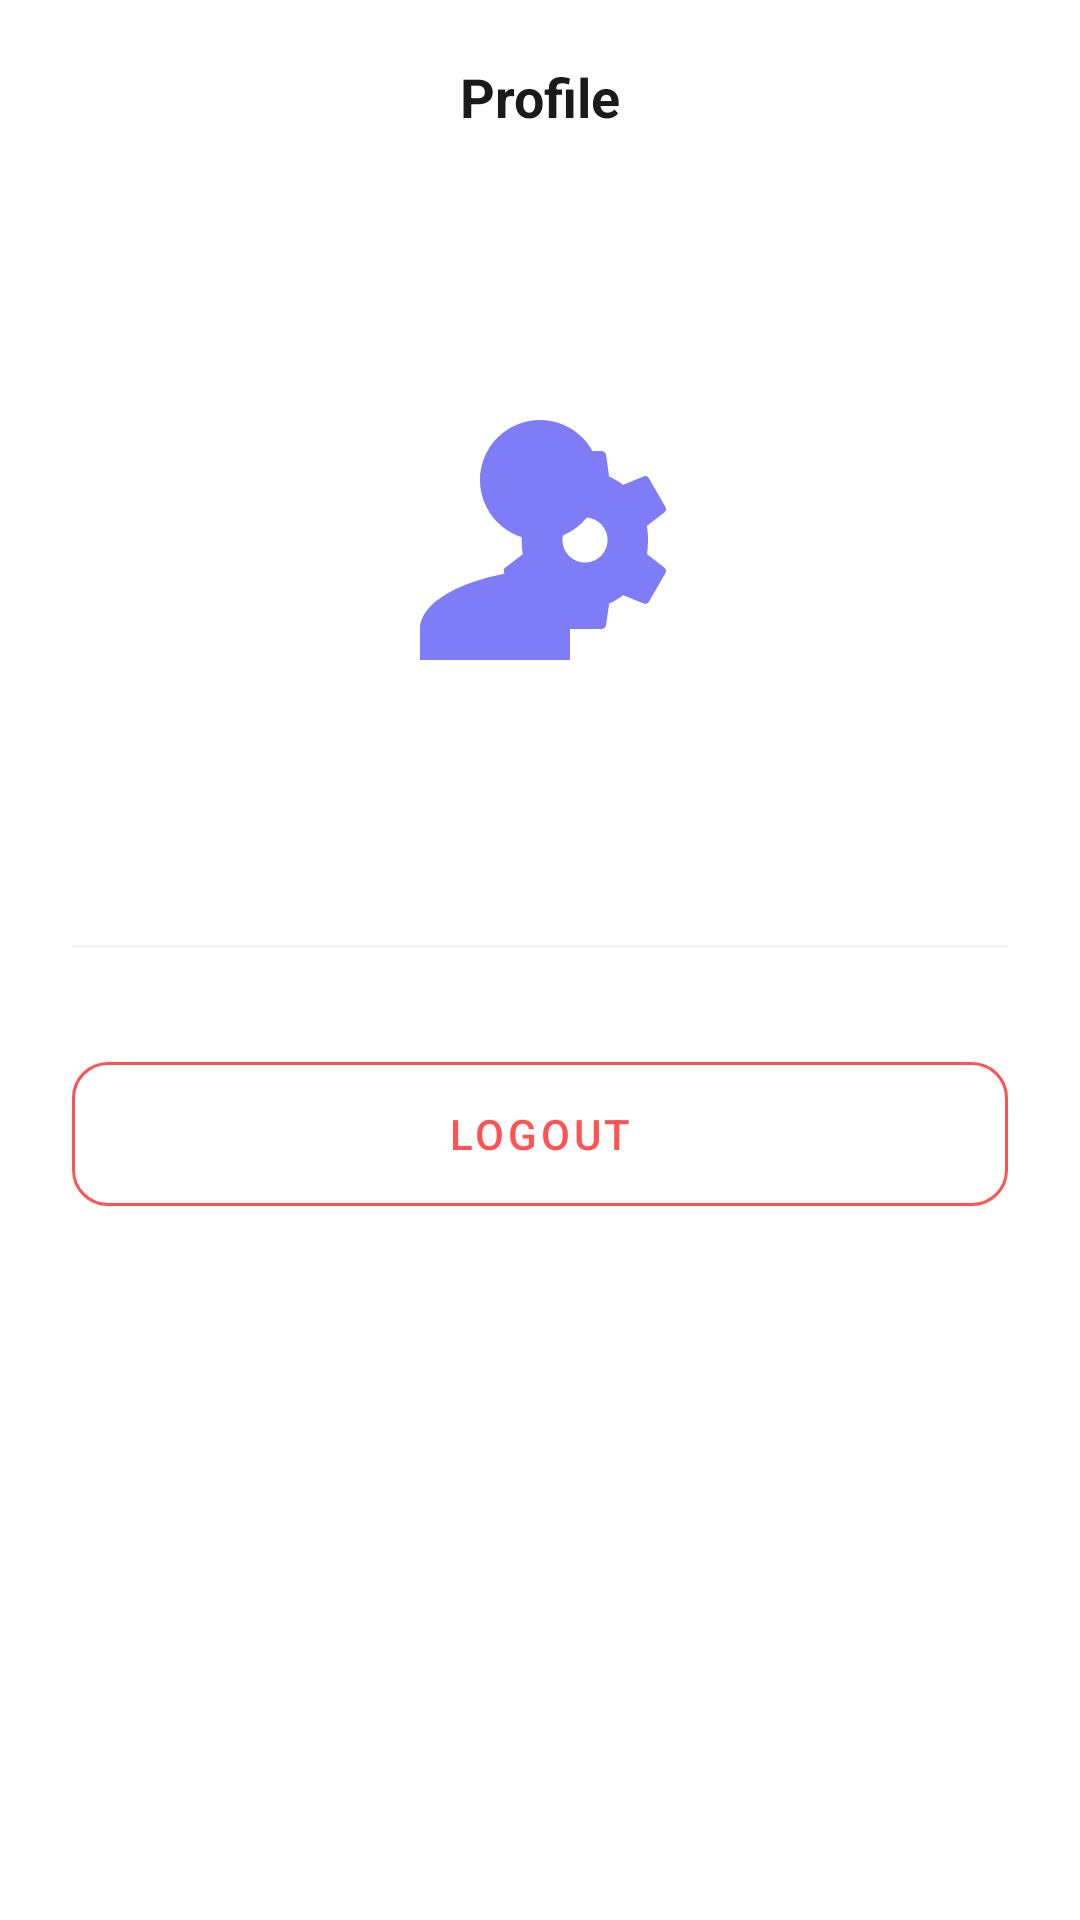

Where to tap for icons on this 1080w x 1920h app screen, as point (x, y):
profile: point (543, 540)
